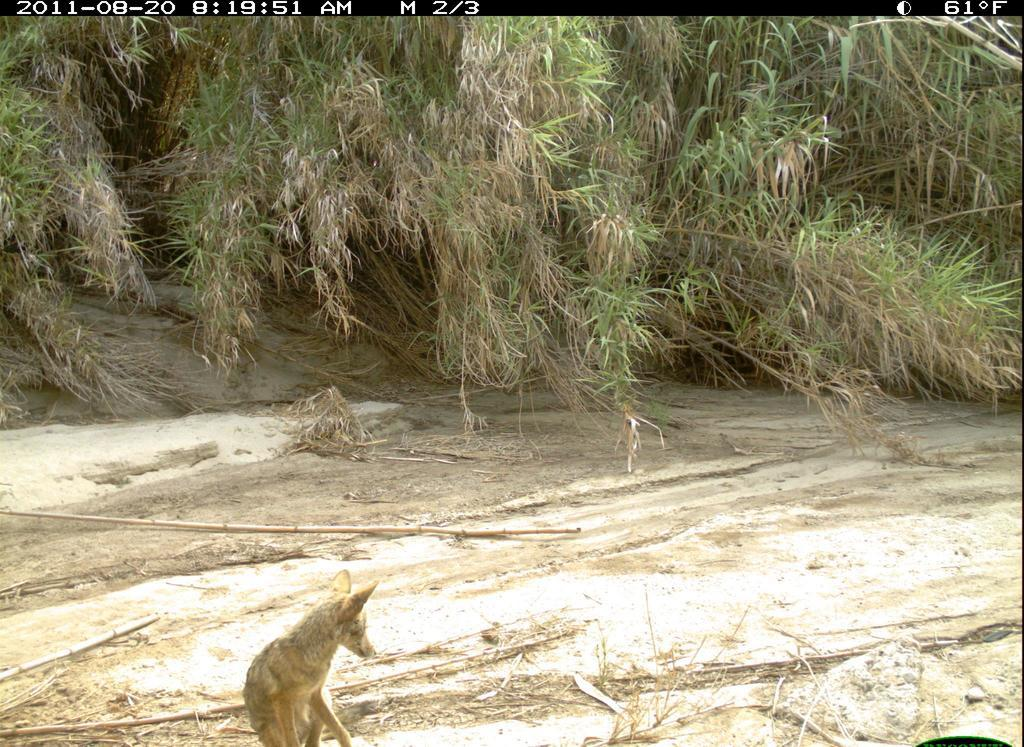coyote: (232, 561, 393, 747)
